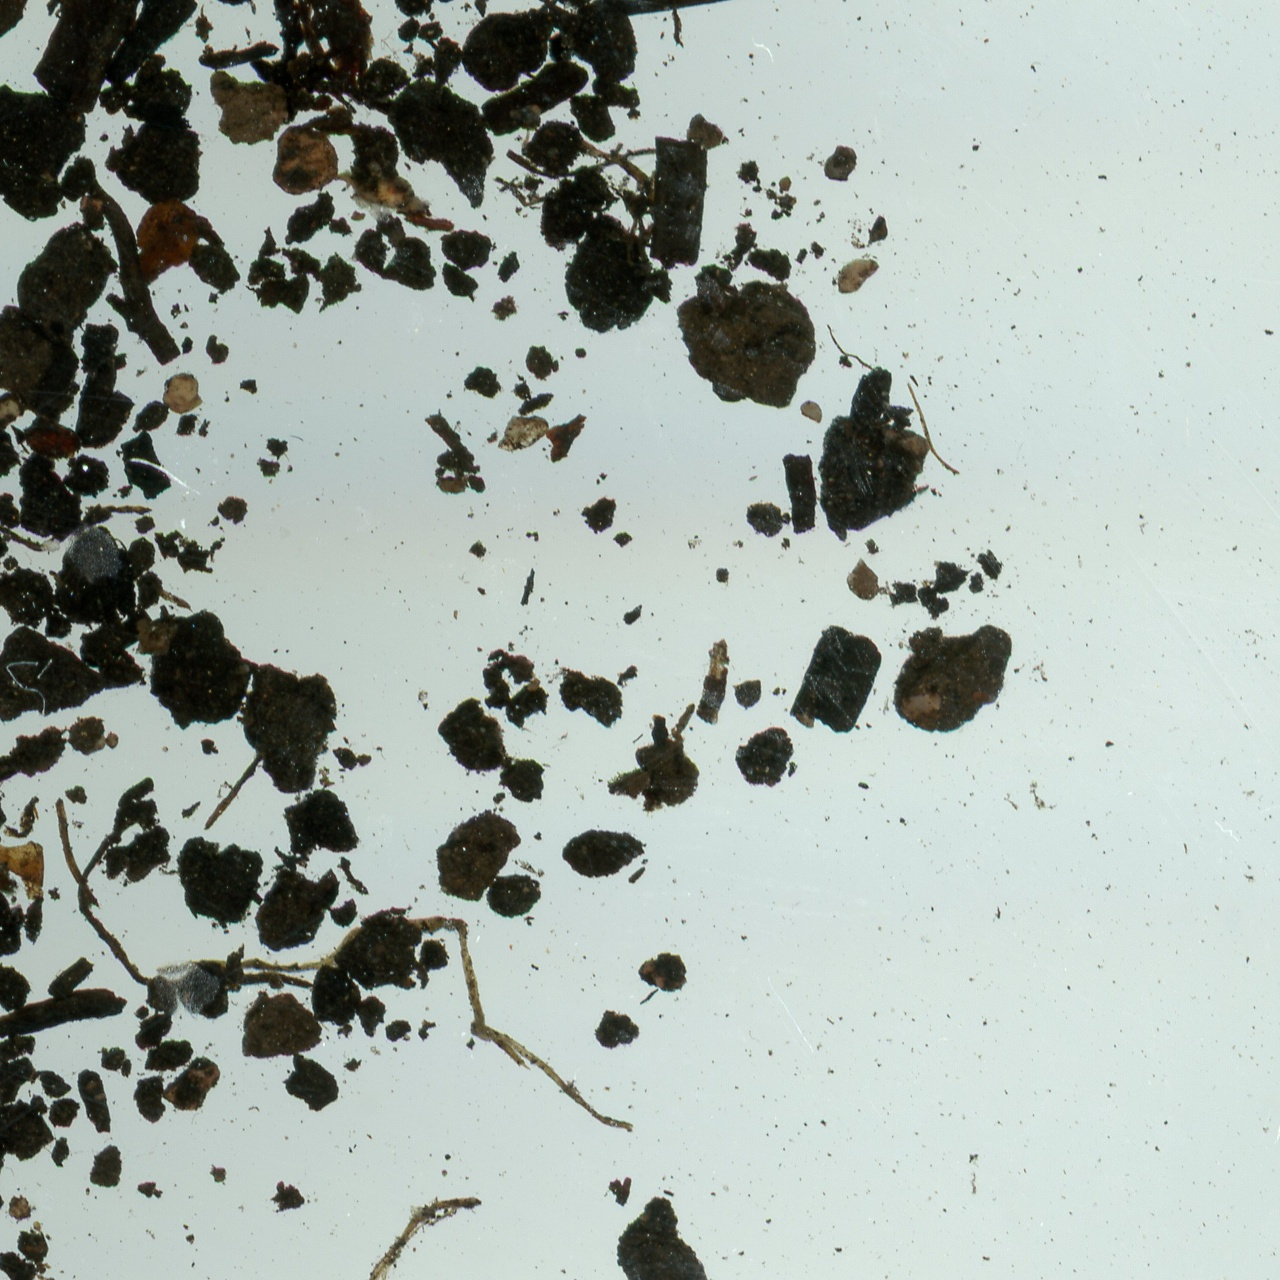arthropod: (332, 162, 439, 227)
